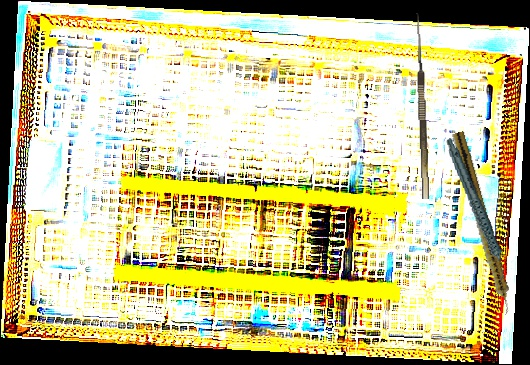Handpiece: (447, 130, 517, 317), (445, 132, 508, 287)
Hook Surgical: (405, 12, 430, 200)
